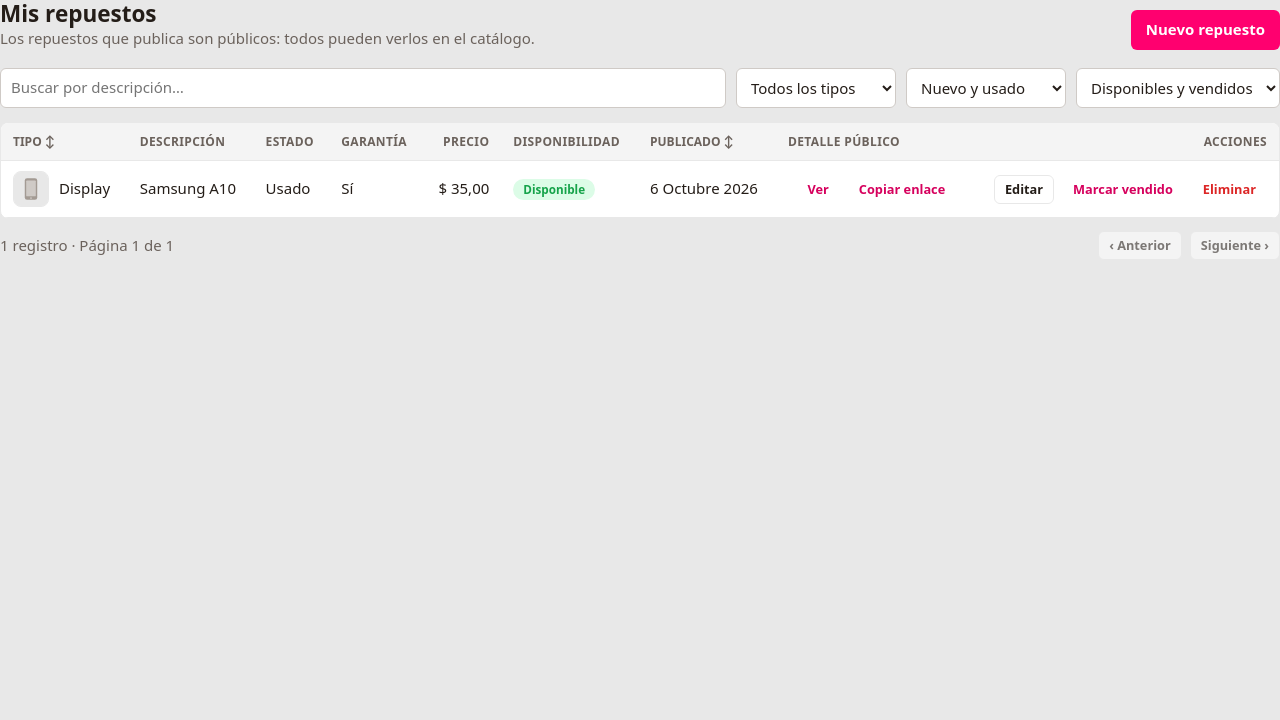
Test: AffiliatePartsPage › publishes a new spare part
Click the button "Nuevo repuesto" at (1205, 30), box [1131,10,1279,50]
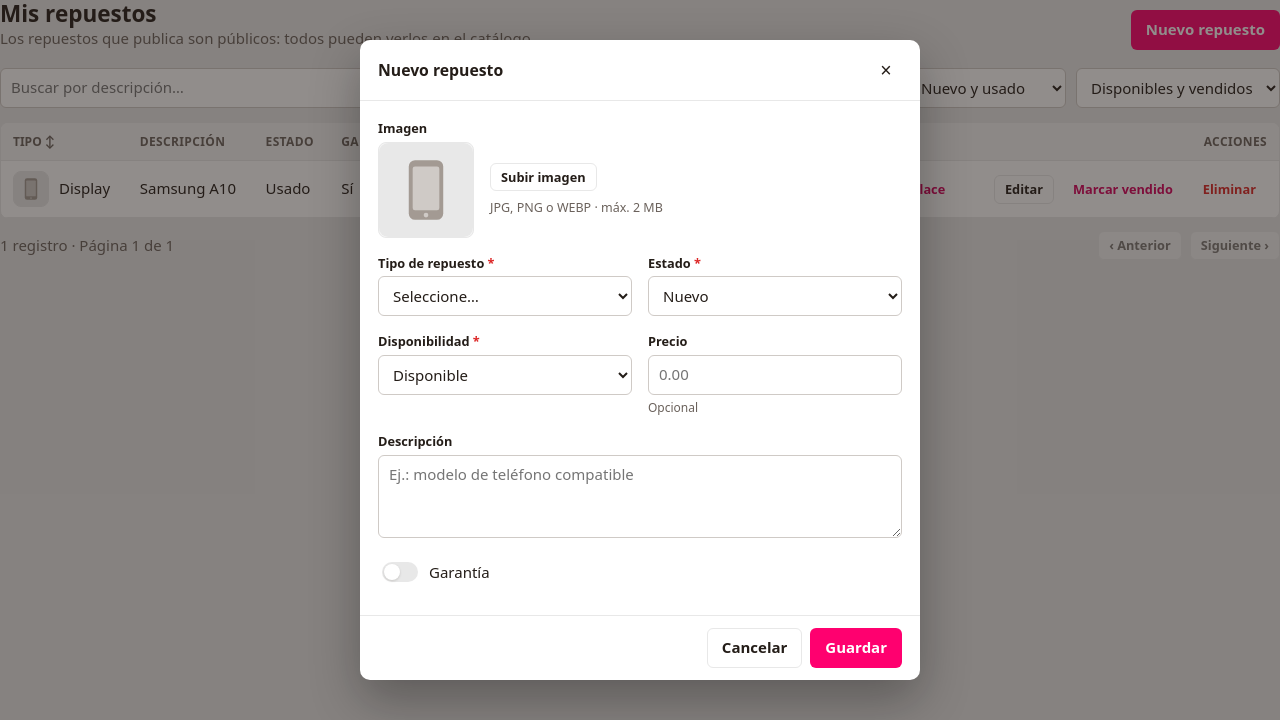
Select "Batería" in the dropdown labelled "Tipo de repuesto *" at (505, 296), box [378,276,632,316]
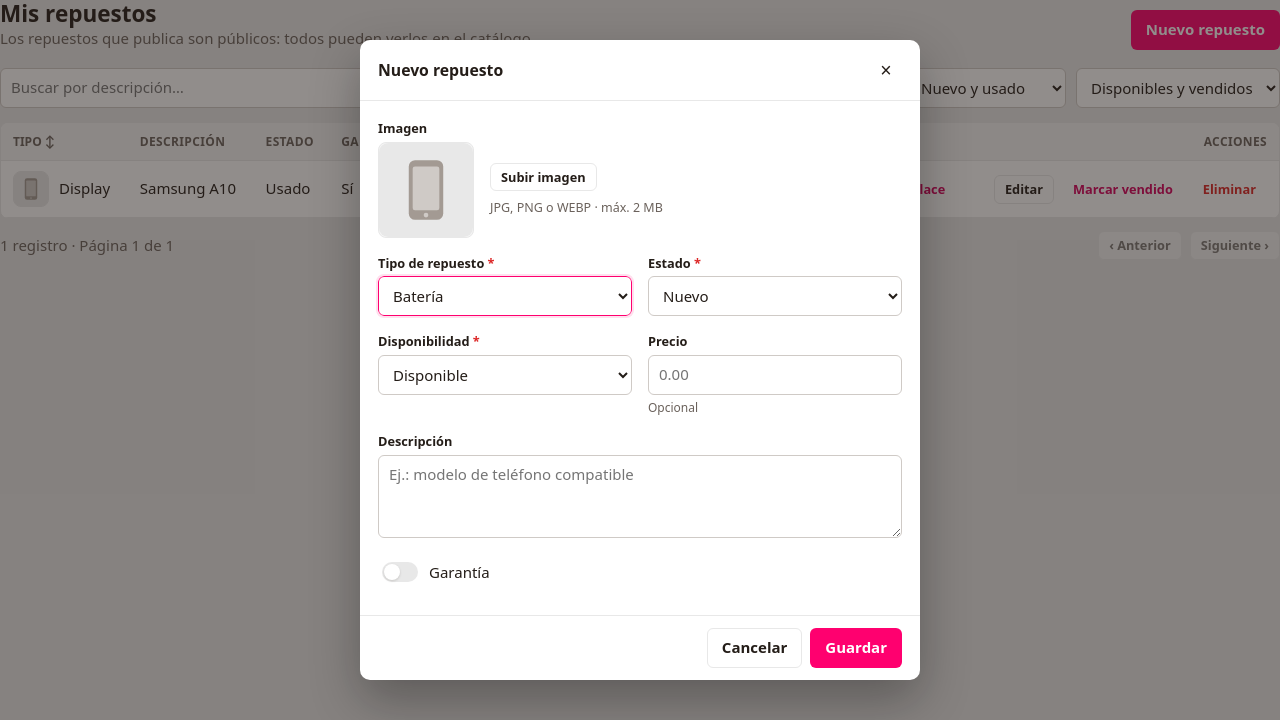
Type "iPhone 11" into the text box labelled "Descripción" at (640, 496), box [378,454,902,538]
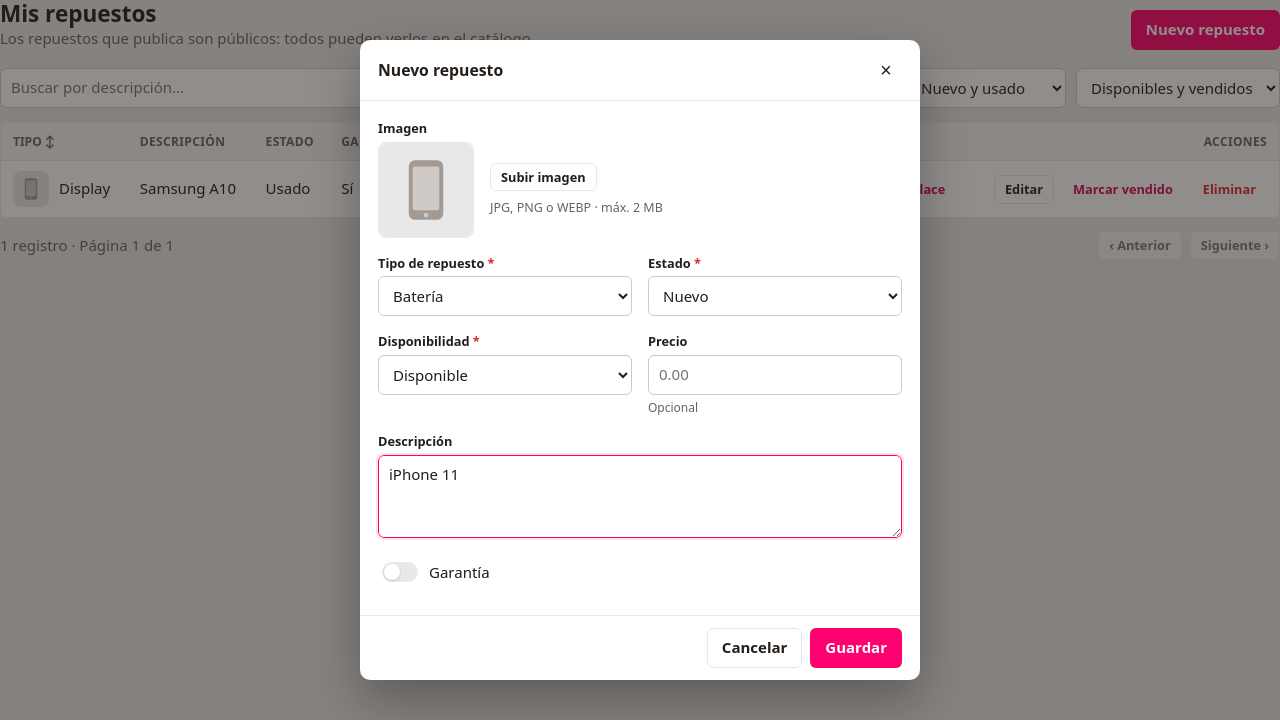
Click the switch labelled "Garantía" at (400, 572), box [382,562,418,582]
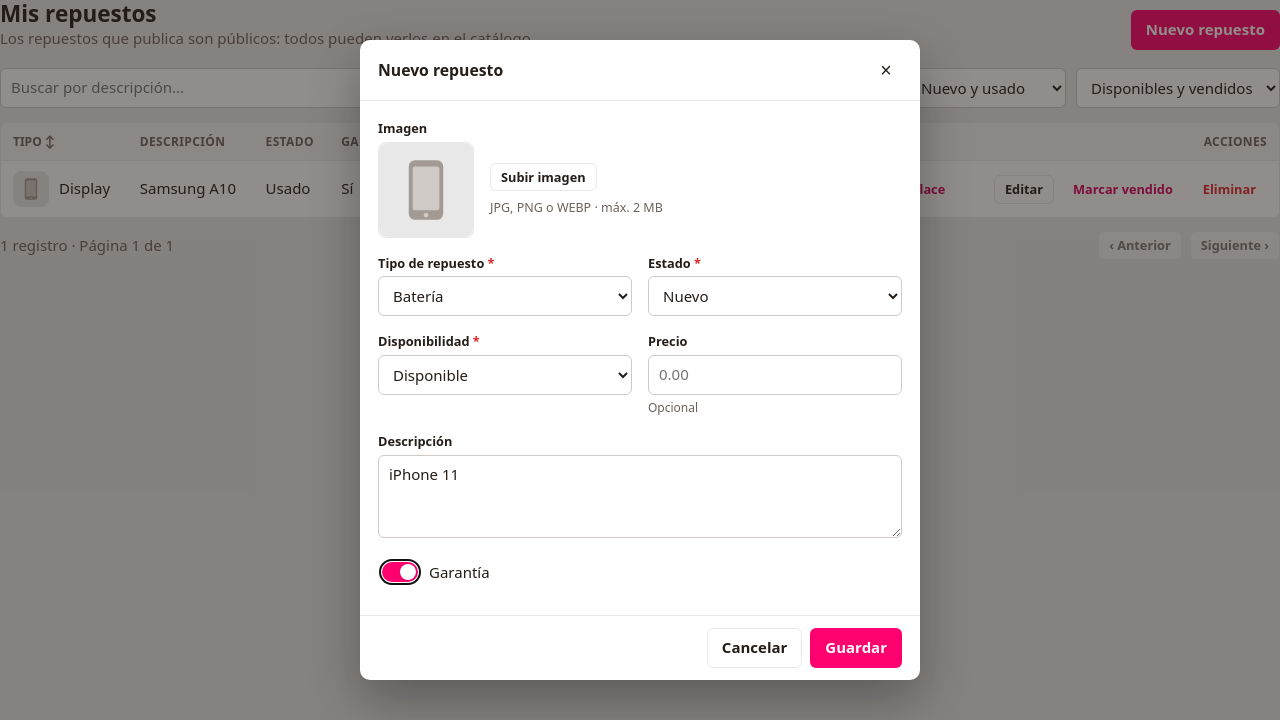
Click the button "Guardar" at (856, 648), box [810,628,902,668]
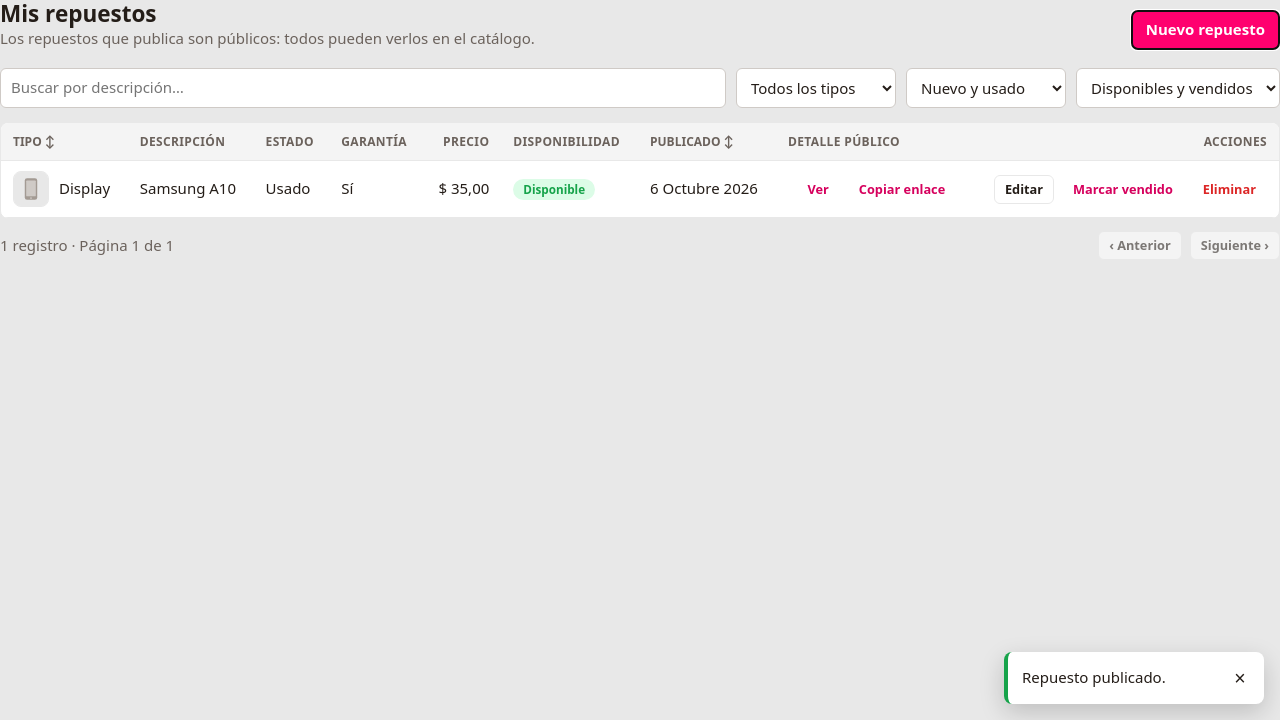
expect the text "Repuesto publicado." is shown: met, box [1022,667,1166,687]
